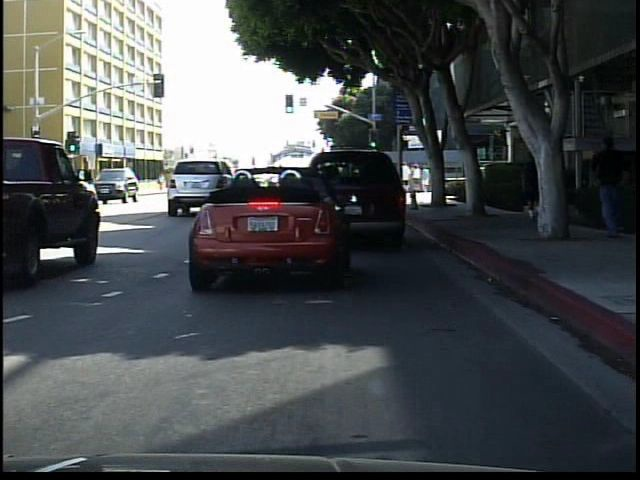person: (587, 132, 631, 239), (514, 146, 542, 228), (156, 170, 169, 194)
